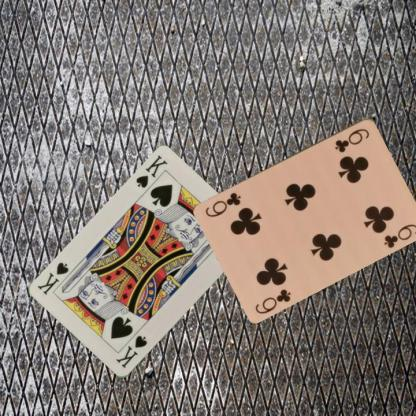6c: (252, 286, 292, 315), (332, 125, 371, 154)
Ks: (113, 333, 149, 370), (133, 153, 169, 190)
